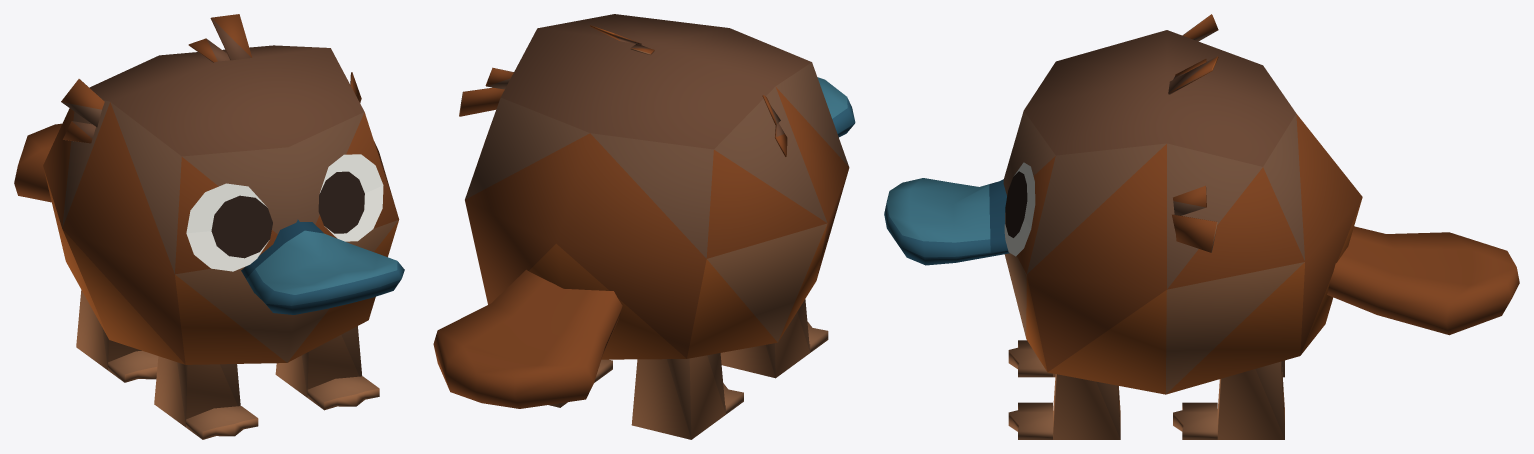
The model's file is itch_gobkit_animals_platypus.glb.
3 views of the same model, side by side, from view 1: azimuth 30°, elevation 25°; view 2: azimuth 150°, elevation 25°; view 3: azimuth 270°, elevation 25° (orthographic). The views are drawn at different scales.
Visible parts, largest first — view 1: Platypus; view 2: Platypus; view 3: Platypus.
Part boxes in pixels (bbox=[...]): Platypus: bbox=[14, 14, 404, 439]; Platypus: bbox=[433, 14, 855, 439]; Platypus: bbox=[884, 14, 1519, 439].
Bounding box in the file's own units: 0.5904 × 0.5773 × 0.9617.
